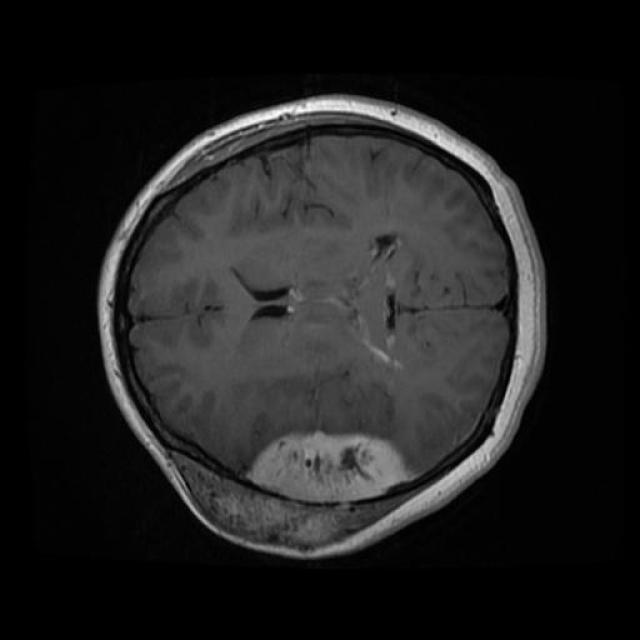Meningioma: (170, 433, 409, 548)
